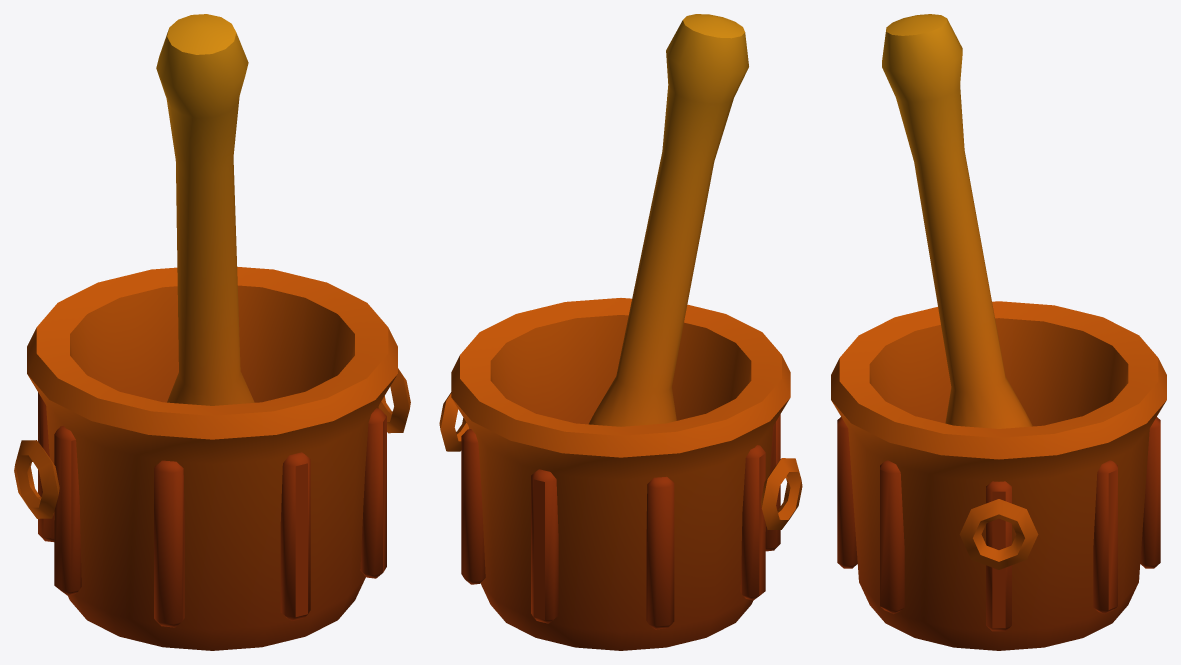
The model's file is Havan_Rig.fbx.
3 renders of one model, left to right at view 1: azimuth 30°, elevation 25°; view 2: azimuth 150°, elevation 25°; view 3: azimuth 270°, elevation 25°, orthographic. The views are drawn at different scales.
Parts seen in each view (by area): view 1: SM_Tezgah_Havan, Tezgah_Havaneli; view 2: SM_Tezgah_Havan, Tezgah_Havaneli; view 3: SM_Tezgah_Havan, Tezgah_Havaneli.
Part boxes in pixels (bbox=[...]): SM_Tezgah_Havan: bbox=[14, 267, 410, 650]; Tezgah_Havaneli: bbox=[156, 14, 254, 405]; SM_Tezgah_Havan: bbox=[439, 298, 802, 650]; Tezgah_Havaneli: bbox=[588, 14, 748, 426]; SM_Tezgah_Havan: bbox=[831, 301, 1166, 650]; Tezgah_Havaneli: bbox=[882, 14, 1032, 428].
Bounding box in the file's own units: 0.22 × 0.3491 × 0.192.
